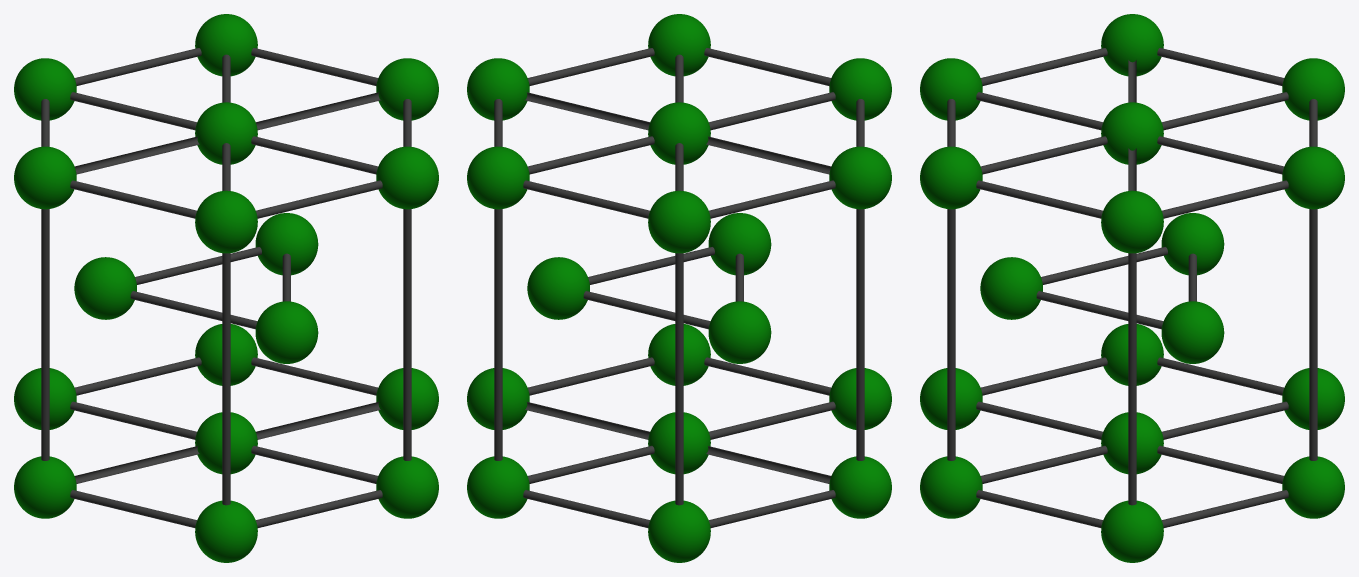
Rendered from hcp-lattice.glb.
The picture shows the model from 3 angles, left to right: view 1: azimuth 30°, elevation 25°; view 2: azimuth 150°, elevation 25°; view 3: azimuth 270°, elevation 25°; orthographic projection.
Visible parts, largest first — view 1: Surface-Sweep1 - Part, Mirror1[2] - Part, Mirror1[10] - Part, Surface-Revolve4 - Part, CirPattern1[2] - Part, Mirror1[9] - Part, Mirror1[11] - Part, Surface-Revolve3[1] - Part, CirPattern1[3] - Part, CirPattern1[1] - Part, Mirror1[7] - Part, Mirror1[5] - Part (+17 smaller); view 2: Surface-Sweep1 - Part, Mirror1[2] - Part, Mirror1[5] - Part, Surface-Revolve3[1] - Part, Surface-Revolve1 - Part, Mirror1[6] - Part, Mirror1[11] - Part, Surface-Revolve3[2] - Part, CirPattern1[1] - Part, CirPattern1[5] - Part, Mirror1[7] - Part, Mirror1[10] - Part (+17 smaller); view 3: Mirror1[2] - Part, Surface-Sweep1 - Part, Mirror1[7] - Part, Surface-Revolve3[2] - Part, CirPattern1[4] - Part, Mirror1[6] - Part, Mirror1[9] - Part, Surface-Revolve4 - Part, CirPattern1[5] - Part, CirPattern1[3] - Part, Mirror1[8] - Part, Mirror1[10] - Part (+16 smaller).
Boxes of the visible parts, left/top/right/bottom form: Surface-Sweep1 - Part: left=70, top=357, right=382, bottom=527; Mirror1[2] - Part: left=41, top=48, right=411, bottom=218; Mirror1[10] - Part: left=195, top=190, right=257, bottom=253; Surface-Revolve4 - Part: left=255, top=301, right=318, bottom=363; CirPattern1[2] - Part: left=195, top=500, right=257, bottom=562; Mirror1[9] - Part: left=376, top=146, right=438, bottom=209; Mirror1[11] - Part: left=14, top=146, right=76, bottom=209; Surface-Revolve3[1] - Part: left=74, top=257, right=136, bottom=319; CirPattern1[3] - Part: left=376, top=456, right=438, bottom=518; CirPattern1[1] - Part: left=14, top=456, right=76, bottom=518; Mirror1[7] - Part: left=376, top=58, right=438, bottom=120; Mirror1[5] - Part: left=14, top=58, right=76, bottom=120; Surface-Sweep1 - Part: left=523, top=357, right=835, bottom=527; Mirror1[2] - Part: left=494, top=48, right=864, bottom=218; Mirror1[5] - Part: left=648, top=190, right=710, bottom=253; Surface-Revolve3[1] - Part: left=708, top=301, right=771, bottom=363; Surface-Revolve1 - Part: left=648, top=500, right=710, bottom=562; Mirror1[6] - Part: left=467, top=146, right=529, bottom=209; Mirror1[11] - Part: left=829, top=146, right=891, bottom=209; Surface-Revolve3[2] - Part: left=527, top=257, right=589, bottom=319; CirPattern1[1] - Part: left=829, top=456, right=891, bottom=518; CirPattern1[5] - Part: left=467, top=456, right=529, bottom=518; Mirror1[7] - Part: left=467, top=58, right=529, bottom=120; Mirror1[10] - Part: left=829, top=58, right=891, bottom=120; Mirror1[2] - Part: left=947, top=48, right=1288, bottom=218; Surface-Sweep1 - Part: left=976, top=357, right=1288, bottom=527; Mirror1[7] - Part: left=1101, top=190, right=1163, bottom=253; Surface-Revolve3[2] - Part: left=1161, top=301, right=1224, bottom=363; CirPattern1[4] - Part: left=1101, top=500, right=1163, bottom=562; Mirror1[6] - Part: left=1282, top=146, right=1344, bottom=209; Mirror1[9] - Part: left=920, top=146, right=982, bottom=209; Surface-Revolve4 - Part: left=980, top=257, right=1042, bottom=319; CirPattern1[5] - Part: left=1282, top=456, right=1344, bottom=518; CirPattern1[3] - Part: left=920, top=456, right=982, bottom=518; Mirror1[8] - Part: left=1101, top=102, right=1163, bottom=164; Mirror1[10] - Part: left=920, top=58, right=982, bottom=120.
Bounding box in the file's own units: 0.0292 × 0.0245 × 0.0258.
